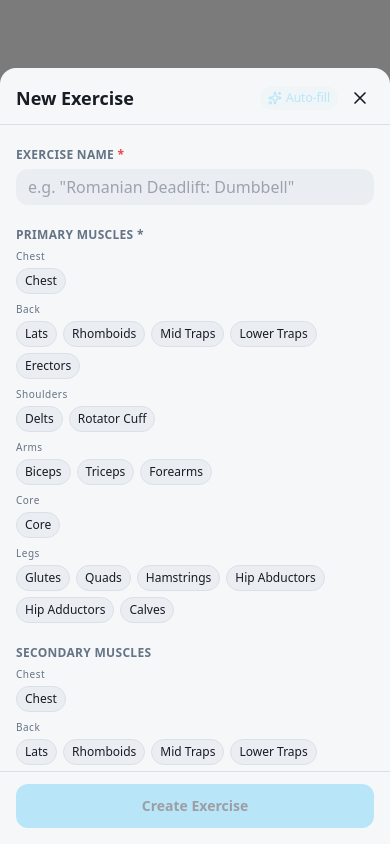
Test case: CreateExerciseForm — Auto-fill button › Auto-fill error shows inline message under the button
Type "Push Up" into the field with placeholder "e.g. \"Romanian Deadlift: Dumbbell\"". click: (195, 186)
box: [16,168,374,204]
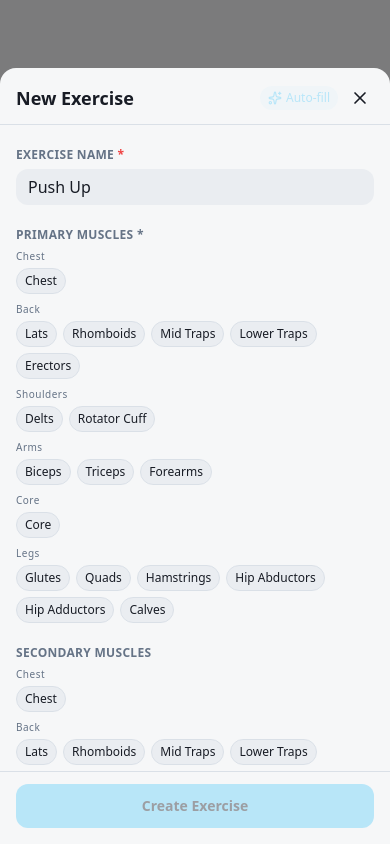
Click the button "Chest" below "Primary Muscles *". click: (41, 280)
box: [16,268,66,294]
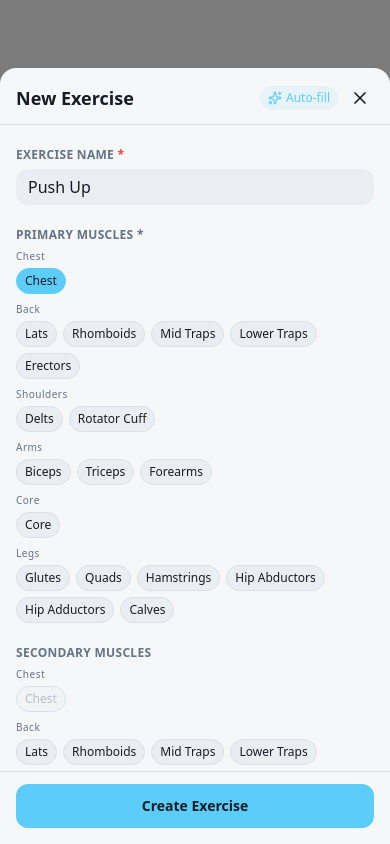
Click the button "Auto-fill". click: (299, 98)
box: [260,86,338,110]
(page scrolled)
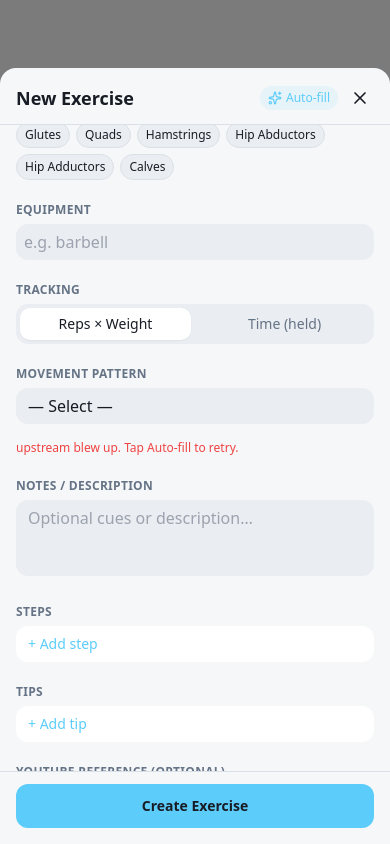
Expected: the text "upstream blew up. Tap Auto-fill to retry." is shown, [16,438,238,456]
